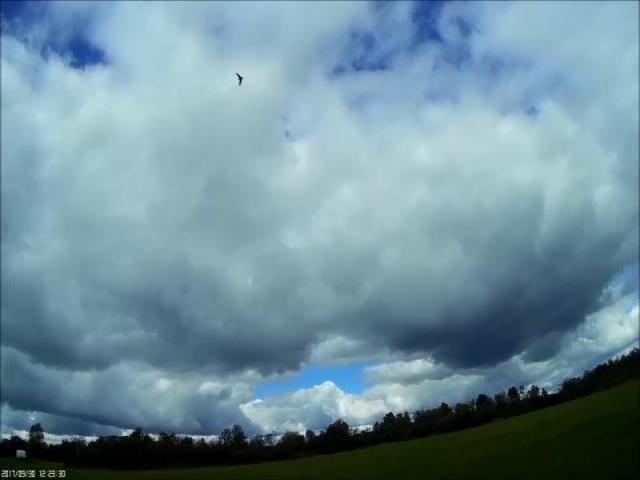flying wing: (232, 62, 244, 88)
